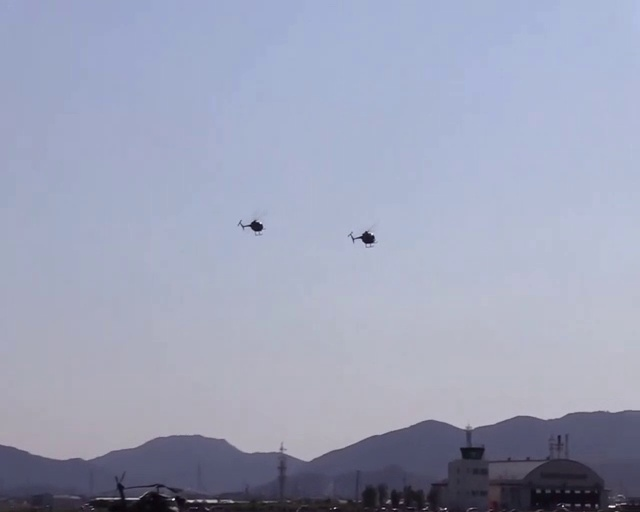HELICOPTER: (237, 217, 265, 235)
